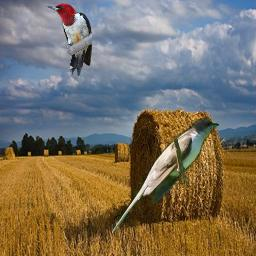Cuckoo: (110, 118, 219, 234)
Woodpecker: (46, 3, 92, 76)
